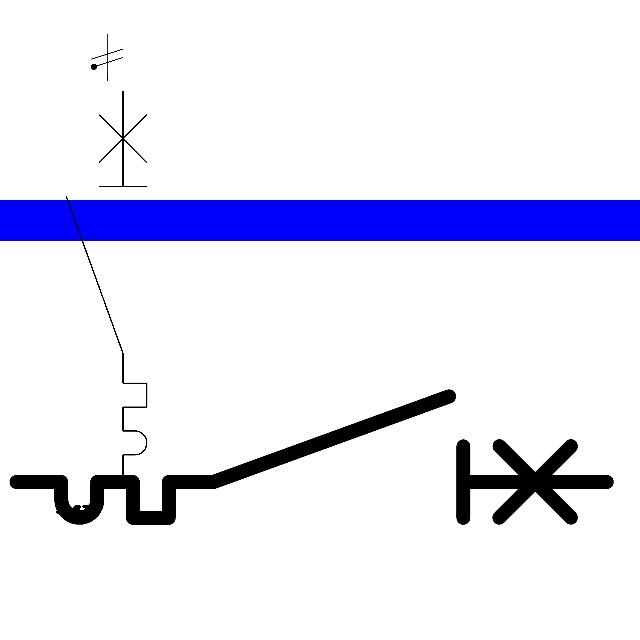interruptor_termomagnetico: (1, 381, 622, 533), (56, 80, 157, 494)
